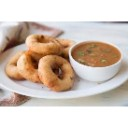vada: (34, 55, 76, 87), (24, 31, 63, 57), (15, 52, 42, 81)
